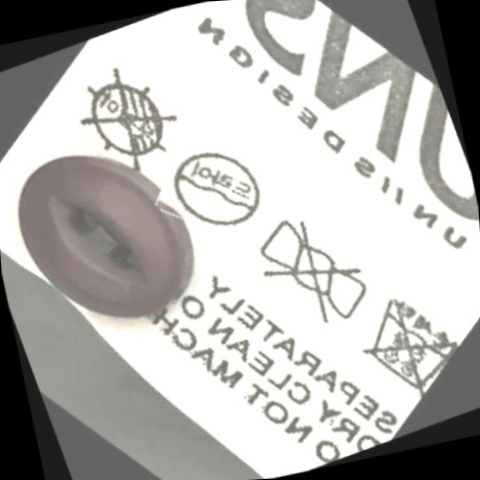DN_dry: (57, 48, 200, 192)
DN_wring: (233, 193, 394, 355)
dry_clean: (151, 123, 281, 256)
hand_wash: (337, 268, 475, 412)
